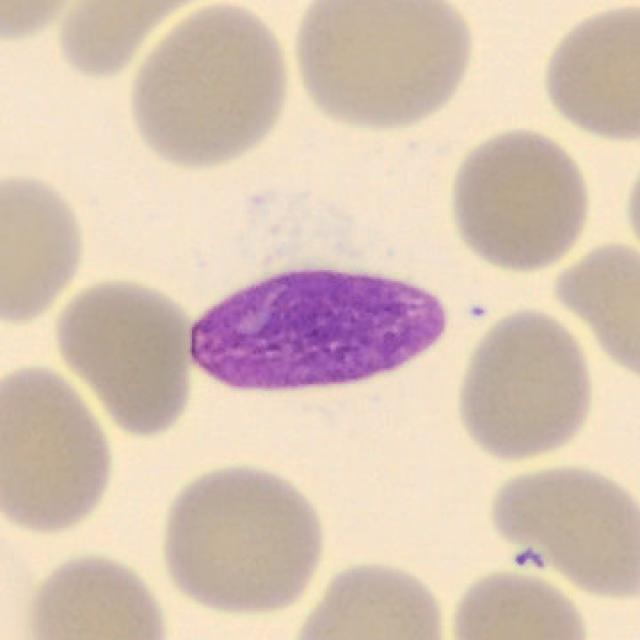Restos celulares: (190, 270, 446, 393)
